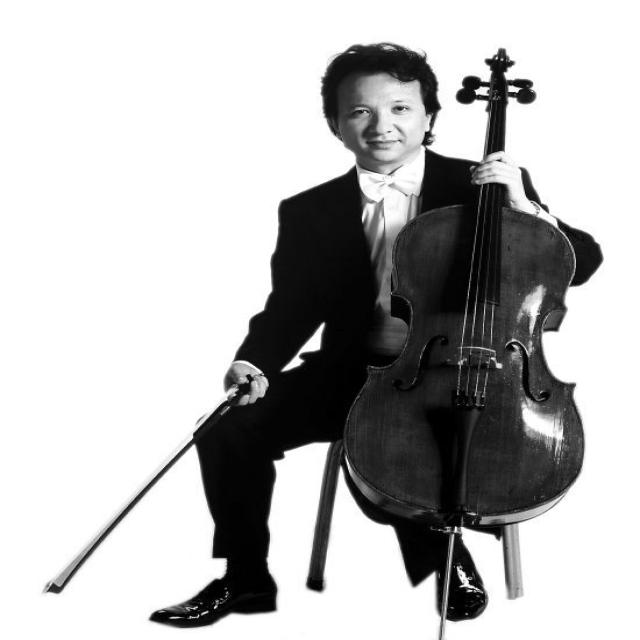cello: (336, 46, 592, 533)
